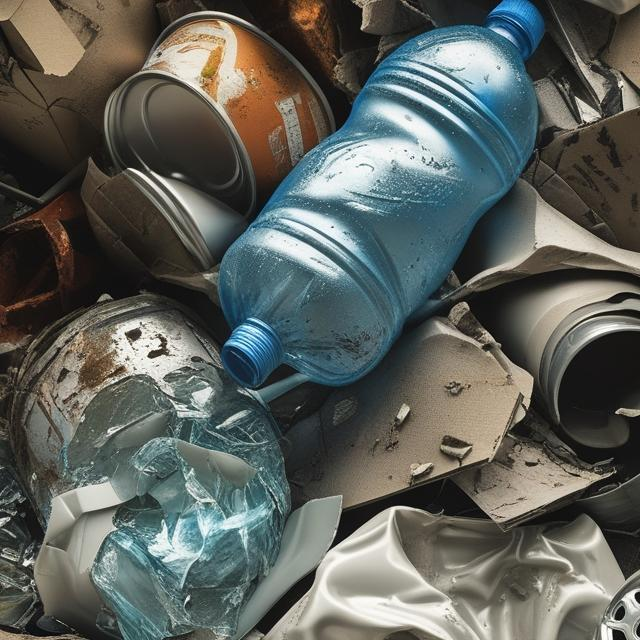plastic: (197, 0, 572, 388)
